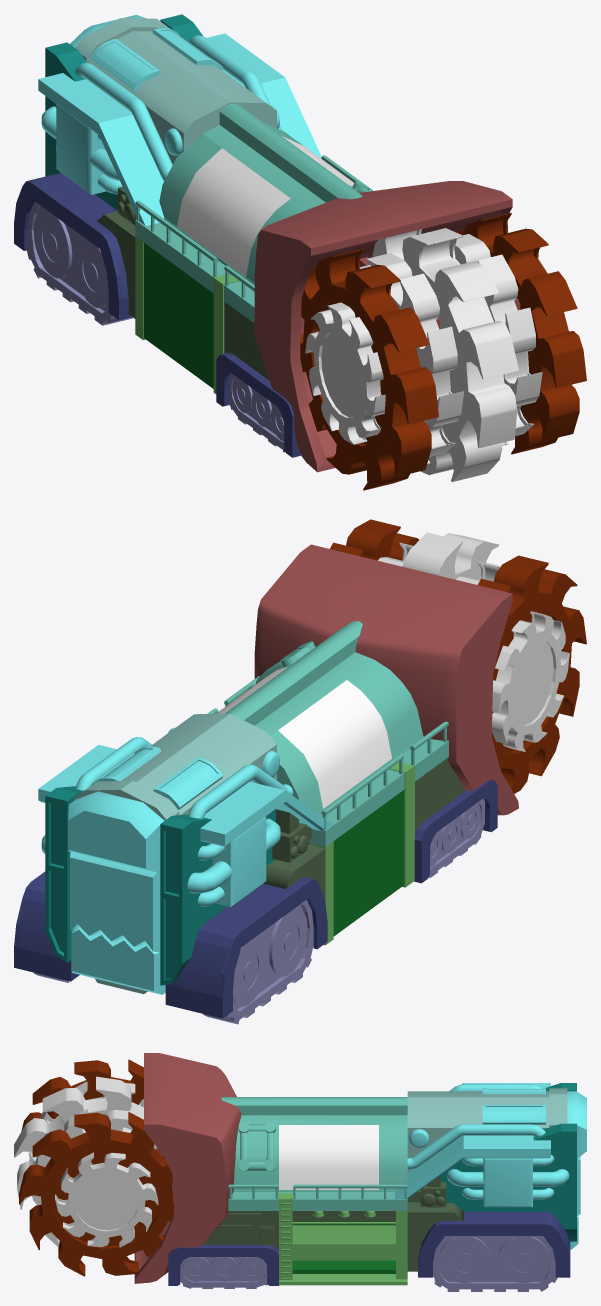
The model's file is FBX_Hero_Drill_V4.fbx.
3 renders of one model, top to bottom at view 1: azimuth 30°, elevation 25°; view 2: azimuth 150°, elevation 25°; view 3: azimuth 270°, elevation 25°, orthographic. The views are drawn at different scales.
Visible parts, largest first — view 1: Center_Wheel1_pCylinder53, Front_Curve_Backup1, Center_Wheel1_pCylinder55, Center_Wheel1_pCylinder56, pCube10, polySurface1, pCube2, Glass_Cover, Center_Wheel1_pCylinder57, Case, pCube47, pCube25 (+15 smaller); view 2: Front_Curve_Backup1, pCube47, pCube2, polySurface2, Center_Wheel1_pCylinder53, Glass_Cover, polySurface1, Center_Wheel1_pCylinder57, pCube43, Case, pCube44, pCube10 (+20 smaller); view 3: Front_Curve_Backup1, Center_Wheel1_pCylinder53, pCube2, Center_Wheel1_pCylinder57, Glass_Cover, polySurface1, polySurface2, pCube47, Center_Wheel1_pCylinder55, pCube10, pCube7, pCube25 (+28 smaller).
Boxes of the visible parts, x1,y1,x2,y2 form: Center_Wheel1_pCylinder53: (300, 212, 586, 490); Front_Curve_Backup1: (254, 181, 512, 472); Center_Wheel1_pCylinder55: (372, 228, 518, 481); Center_Wheel1_pCylinder56: (360, 234, 542, 464); pCube10: (38, 33, 321, 225); polySurface1: (75, 18, 276, 164); pCube2: (135, 122, 352, 323); Glass_Cover: (177, 136, 354, 276); Center_Wheel1_pCylinder57: (305, 302, 385, 444); Case: (144, 243, 213, 388); pCube47: (14, 173, 131, 320); pCube25: (219, 103, 362, 202); Front_Curve_Backup1: (254, 544, 518, 815); pCube47: (14, 871, 327, 1018); pCube2: (255, 646, 448, 846); polySurface2: (45, 786, 275, 985); Center_Wheel1_pCylinder53: (330, 519, 586, 793); Glass_Cover: (216, 667, 391, 808); polySurface1: (74, 713, 276, 994); Center_Wheel1_pCylinder57: (492, 611, 569, 751); pCube43: (70, 852, 160, 952); Case: (308, 790, 403, 936); pCube44: (68, 791, 164, 872); pCube10: (38, 745, 332, 846); Front_Curve_Backup1: (134, 1053, 241, 1283); Center_Wheel1_pCylinder53: (19, 1059, 174, 1276); pCube2: (228, 1115, 407, 1210); Center_Wheel1_pCylinder57: (55, 1152, 158, 1247); Glass_Cover: (279, 1125, 378, 1189); polySurface1: (407, 1088, 567, 1172); polySurface2: (411, 1083, 576, 1241); pCube47: (418, 1211, 570, 1277); Center_Wheel1_pCylinder55: (14, 1076, 143, 1247); pCube10: (395, 1083, 550, 1198); pCube7: (292, 1225, 395, 1260); pCube25: (221, 1097, 407, 1115).
Size of the model in its own units: 1271 by 1390 by 4160.
